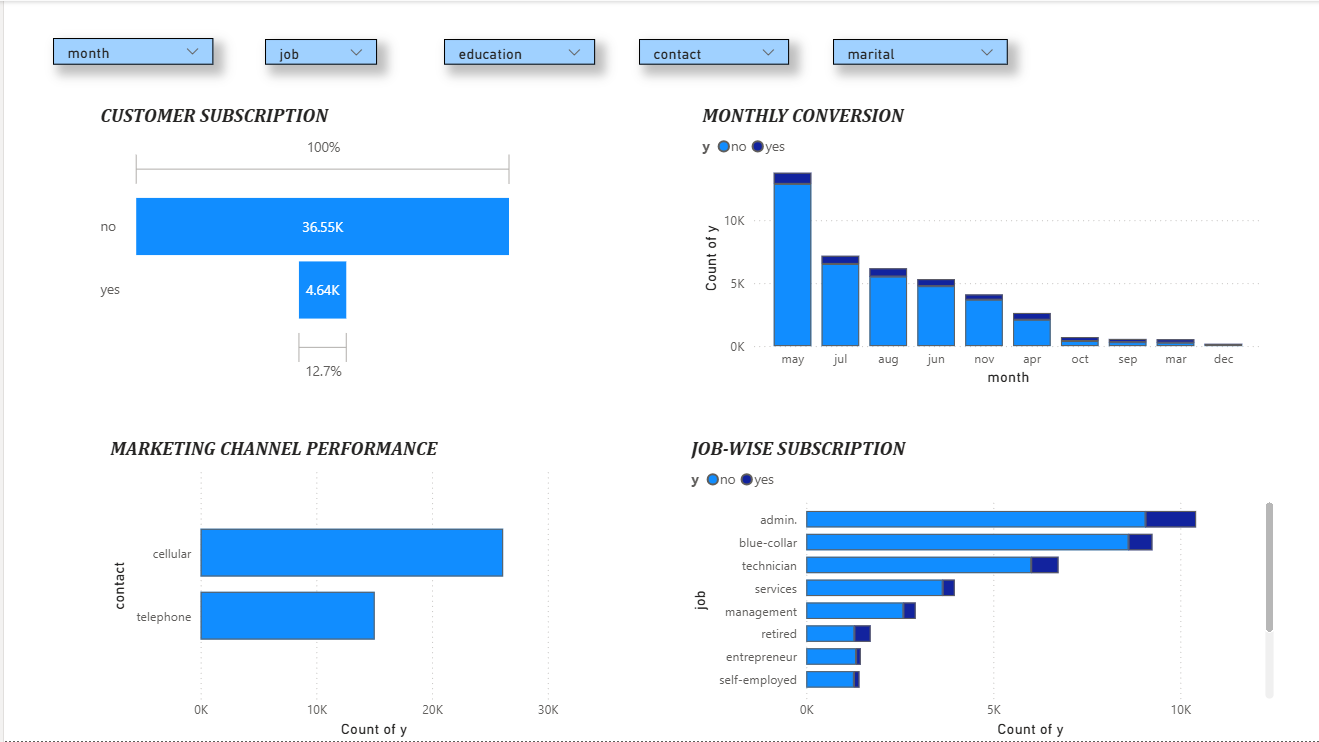

Layout of this report page (visuals, bound fields, positions):
{"tool":"powerbi","page":{"name":"Page 1","canvas":[1280,720],"ordinal":0},"visuals":[{"type":"funnel","title":"CUSTOMER SUBSCRIPTION","fields":{"Category":["bank-additional-full.y"],"Y":["CountNonNull(bank-additional-full.y)"]},"box":[88.9,98.9,412.7,279.8],"z":0},{"type":"clusteredBarChart","title":"MARKETING CHANNEL PERFORMANCE","fields":{"Category":["bank-additional-full.contact"],"Y":["CountNonNull(bank-additional-full.y)"]},"box":[97.9,422.7,445.7,297.8],"z":1000},{"type":"columnChart","title":"MONTHLY CONVERSION","fields":{"Category":["bank-additional-full.month"],"Y":["CountNonNull(bank-additional-full.y)"],"Series":["bank-additional-full.y"]},"box":[674.5,98.9,554.6,279.8],"z":2000},{"type":"barChart","title":"JOB-WISE SUBSCRIPTION","fields":{"Category":["bank-additional-full.job"],"Y":["CountNonNull(bank-additional-full.y)"],"Series":["bank-additional-full.y"]},"box":[663.5,422.7,576.5,297.8],"z":3000},{"type":"slicer","fields":{"Values":["bank-additional-full.month"]},"box":[48,36,155.9,26],"z":3001},{"type":"slicer","fields":{"Values":["bank-additional-full.job"]},"box":[253.8,37,108.9,25],"z":3002},{"type":"slicer","fields":{"Values":["bank-additional-full.education"]},"box":[427.7,37,146.9,25],"z":3003},{"type":"slicer","fields":{"Values":["bank-additional-full.contact"]},"box":[617.5,37,145.9,25],"z":3004},{"type":"slicer","fields":{"Values":["bank-additional-full.marital"]},"box":[806.4,37,169.9,25],"z":3005}]}

Visuals, with their boxes in screenshot pixels (x1, y1, x2, y2), scaled from the page's 1280x720 canvas onto the 1319x742 screenshot:
"CUSTOMER SUBSCRIPTION" funnel: select_region(92, 102, 517, 390)
"MARKETING CHANNEL PERFORMANCE" clusteredBarChart: select_region(101, 436, 560, 741)
"MONTHLY CONVERSION" columnChart: select_region(695, 102, 1267, 390)
"JOB-WISE SUBSCRIPTION" barChart: select_region(684, 436, 1278, 741)
slicer - bank-additional-full.month: select_region(49, 37, 210, 64)
slicer - bank-additional-full.job: select_region(262, 38, 374, 64)
slicer - bank-additional-full.education: select_region(441, 38, 592, 64)
slicer - bank-additional-full.contact: select_region(636, 38, 787, 64)
slicer - bank-additional-full.marital: select_region(831, 38, 1006, 64)
